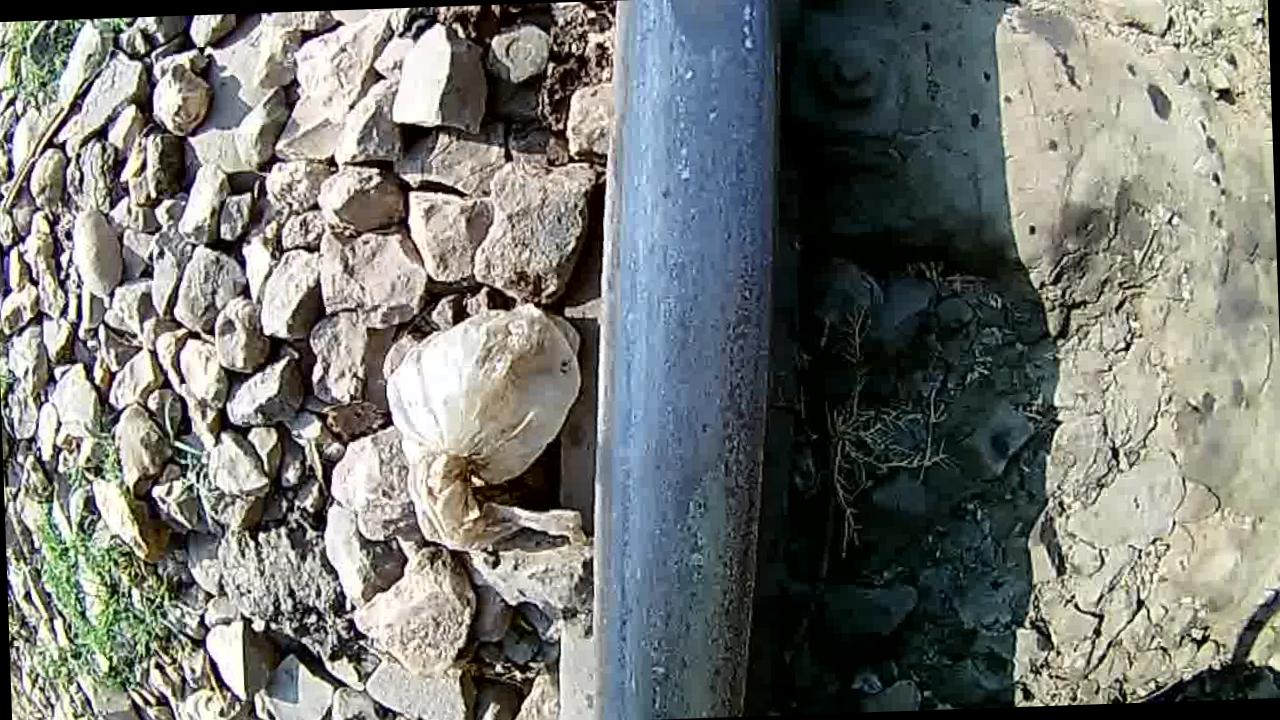bolt_missing: (596, 0, 789, 715)
